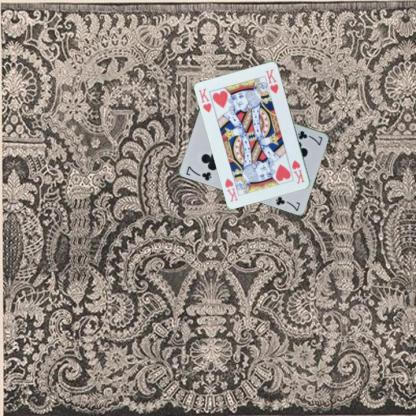7c: (184, 163, 213, 182), (295, 128, 324, 146)
Kh: (196, 85, 213, 114), (289, 158, 306, 185)
